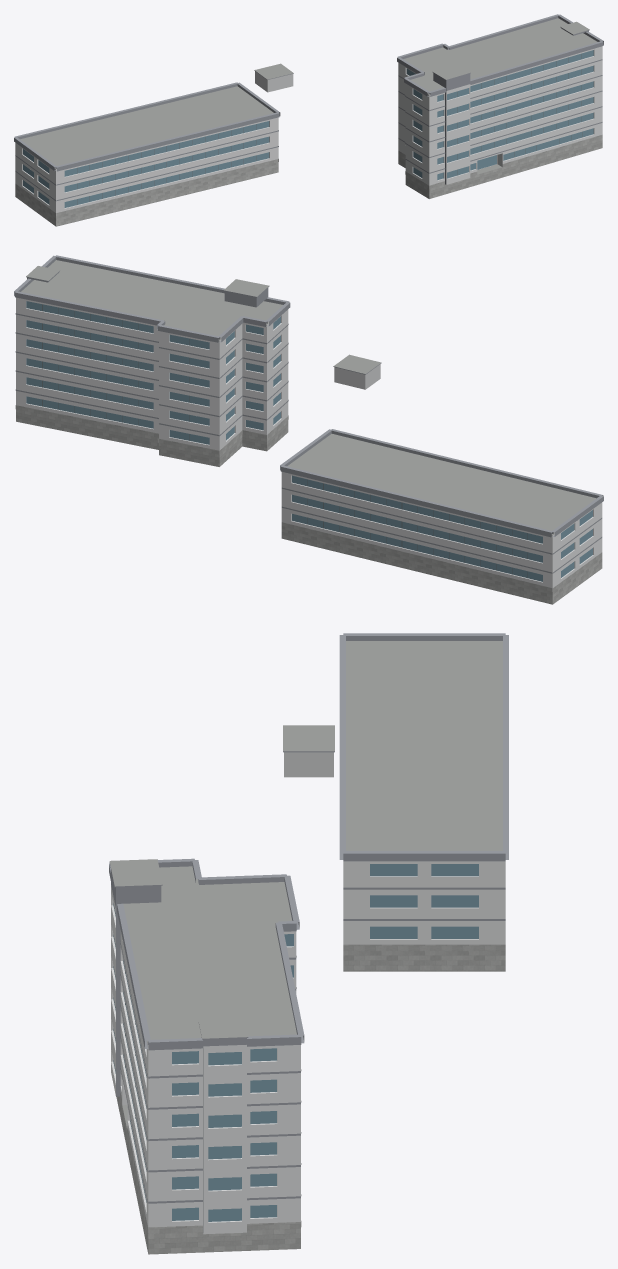
3 views of the same model, one above another, from view 1: azimuth 30°, elevation 25°; view 2: azimuth 150°, elevation 25°; view 3: azimuth 270°, elevation 25° (orthographic). The views are drawn at different scales.
Parts seen in each view (by area): view 1: eurekaHallN27__wall, eurekaHallN27__roof, eurekaHallN27__glass, eurekaHallN27__trim, eurekaHallN27__base, eurekaHallN27__frame, eurekaHallN27__wall2; view 2: eurekaHallN27__wall, eurekaHallN27__roof, eurekaHallN27__glass, eurekaHallN27__trim, eurekaHallN27__base, eurekaHallN27__wall2, eurekaHallN27__frame; view 3: eurekaHallN27__roof, eurekaHallN27__wall, eurekaHallN27__trim, eurekaHallN27__glass, eurekaHallN27__base, eurekaHallN27__wall2.
Boxes of the visible parts, <box> form: eurekaHallN27__wall: <box>15,46,602,215</box>; eurekaHallN27__roof: <box>20,18,597,174</box>; eurekaHallN27__glass: <box>23,50,593,207</box>; eurekaHallN27__trim: <box>14,14,603,201</box>; eurekaHallN27__base: <box>15,134,602,226</box>; eurekaHallN27__frame: <box>77,54,582,204</box>; eurekaHallN27__wall2: <box>255,71,293,92</box>; eurekaHallN27__wall: <box>16,297,602,591</box>; eurekaHallN27__roof: <box>21,260,596,534</box>; eurekaHallN27__glass: <box>26,301,592,581</box>; eurekaHallN27__trim: <box>14,255,603,573</box>; eurekaHallN27__base: <box>15,405,602,604</box>; eurekaHallN27__wall2: <box>334,364,380,389</box>; eurekaHallN27__frame: <box>42,304,527,577</box>; eurekaHallN27__roof: <box>109,641,502,1128</box>; eurekaHallN27__wall: <box>111,861,505,1234</box>; eurekaHallN27__trim: <box>109,633,508,1232</box>; eurekaHallN27__glass: <box>113,864,478,1221</box>; eurekaHallN27__base: <box>116,944,505,1254</box>; eurekaHallN27__wall2: <box>284,752,333,777</box>.
Size of the model in its own units: 127 by 28.5 by 44.03.
Materials: 8 (1 with a texture image).
